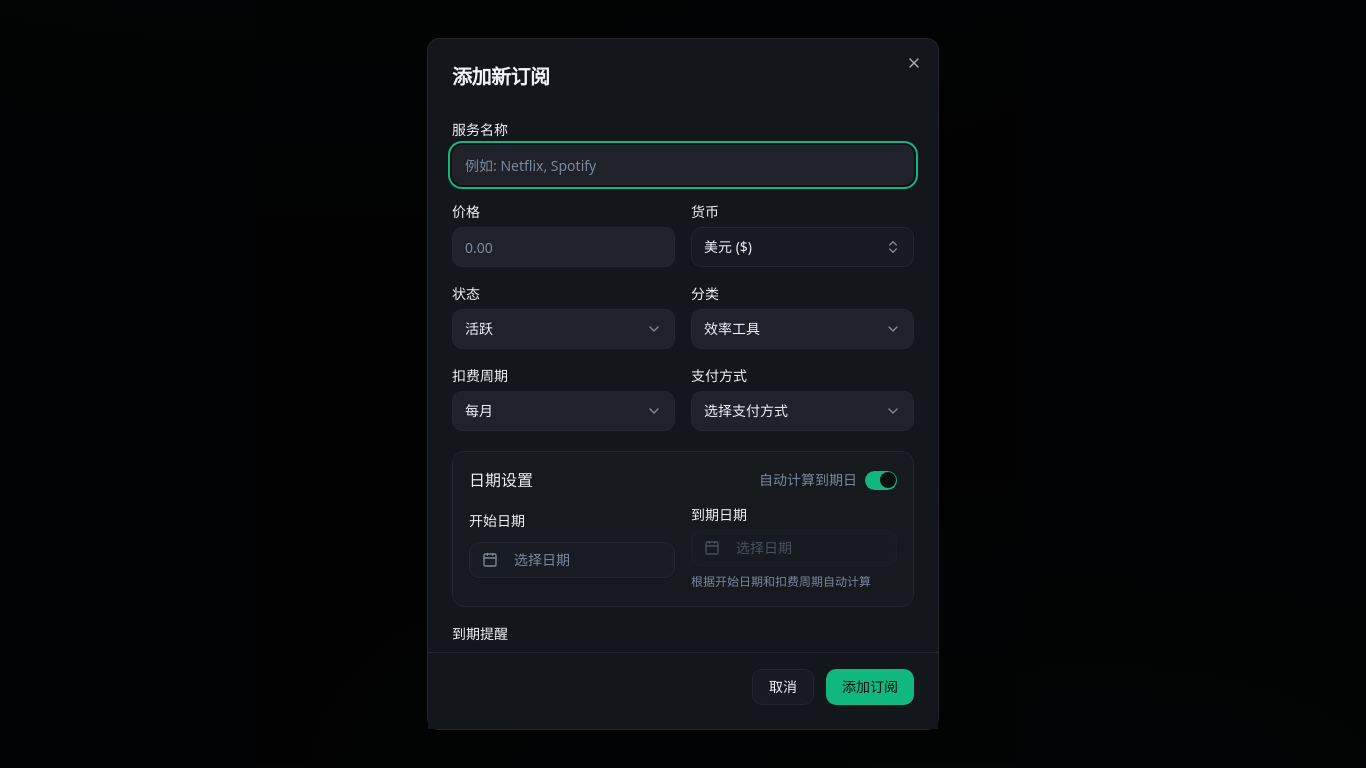
Test: SubscriptionDialog › keeps a manually selected create currency instead of syncing back to the default
Check: the field labelled "服务名称" is shown, box top-left (452, 145), bottom-right (914, 185)
Click the dropdown named "选择货币" at (802, 247), box top-left (691, 227), bottom-right (914, 267)
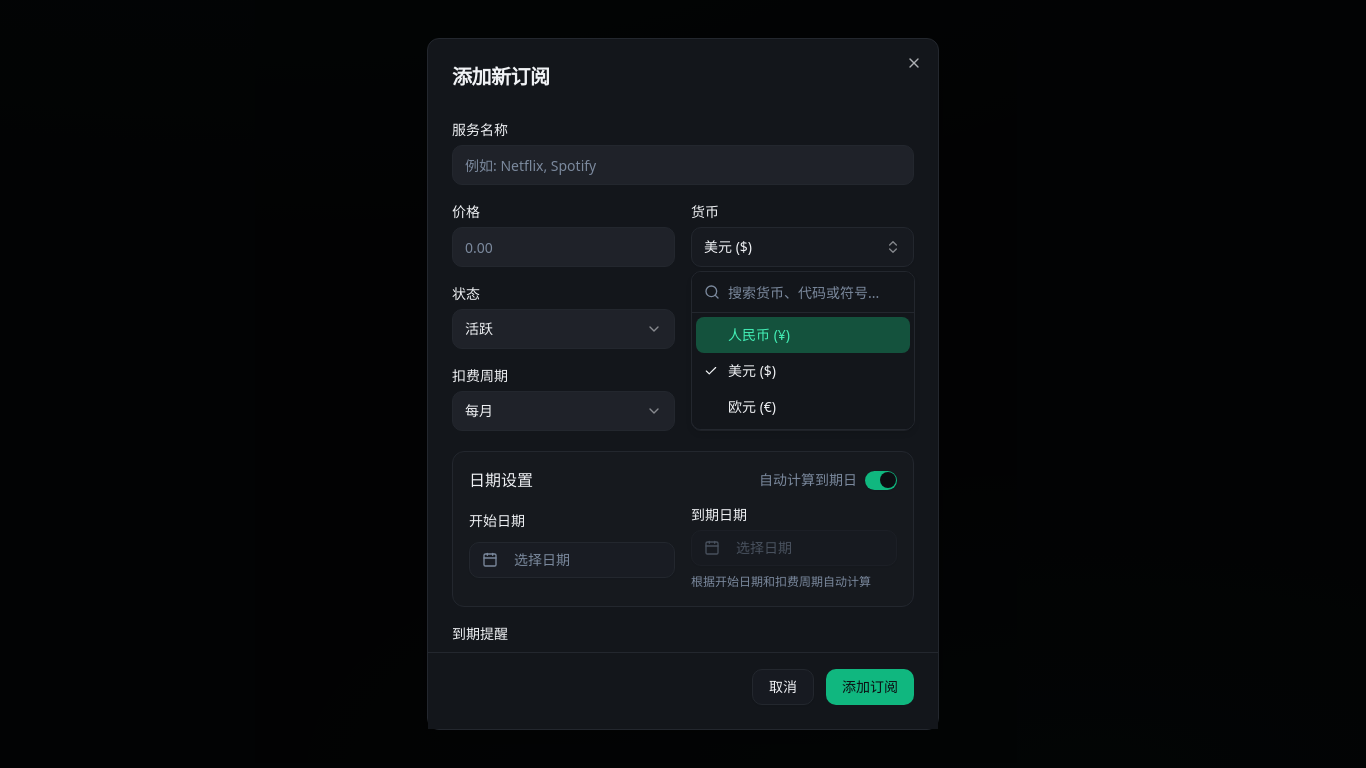
Click the option "人民币 (¥)" at (803, 335), box top-left (696, 317), bottom-right (910, 353)
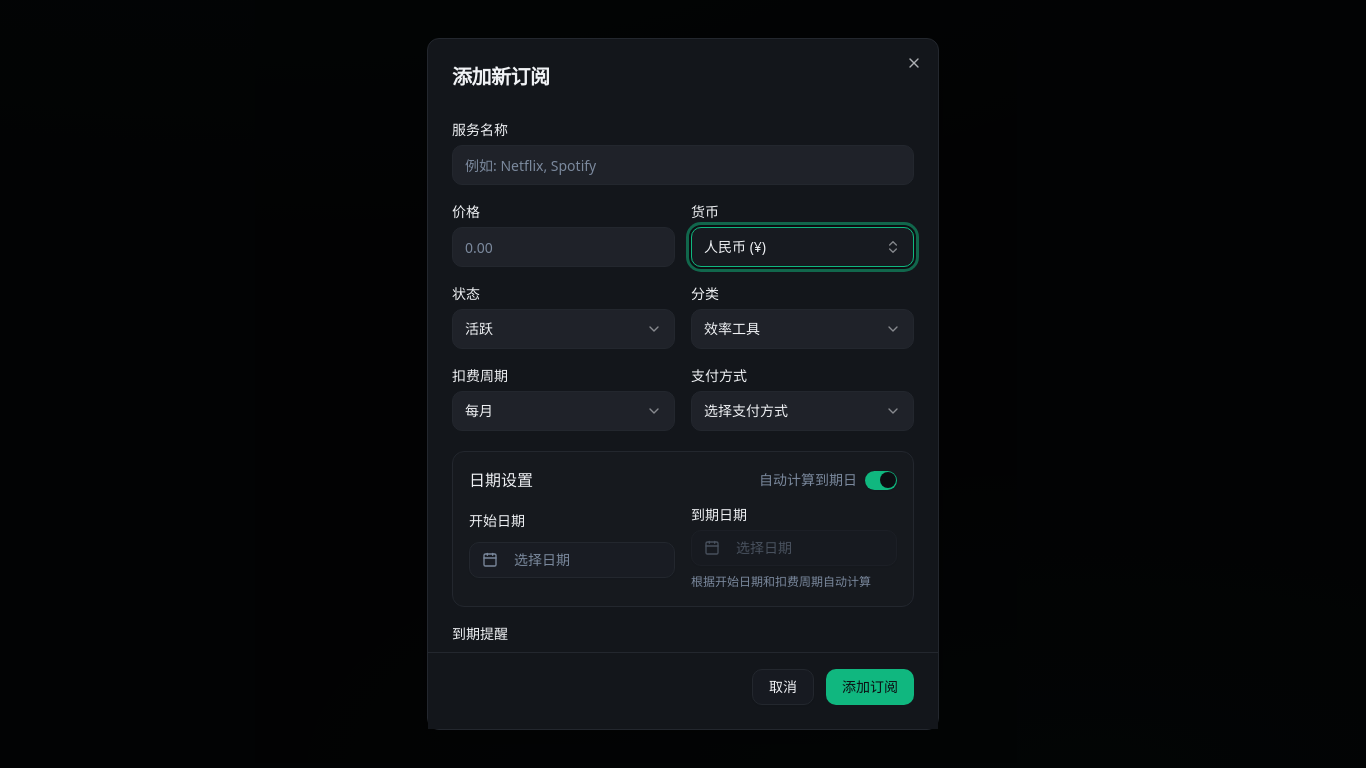
Check: the dropdown named "选择货币" reads "人民币 (¥)", box top-left (691, 227), bottom-right (914, 267)
